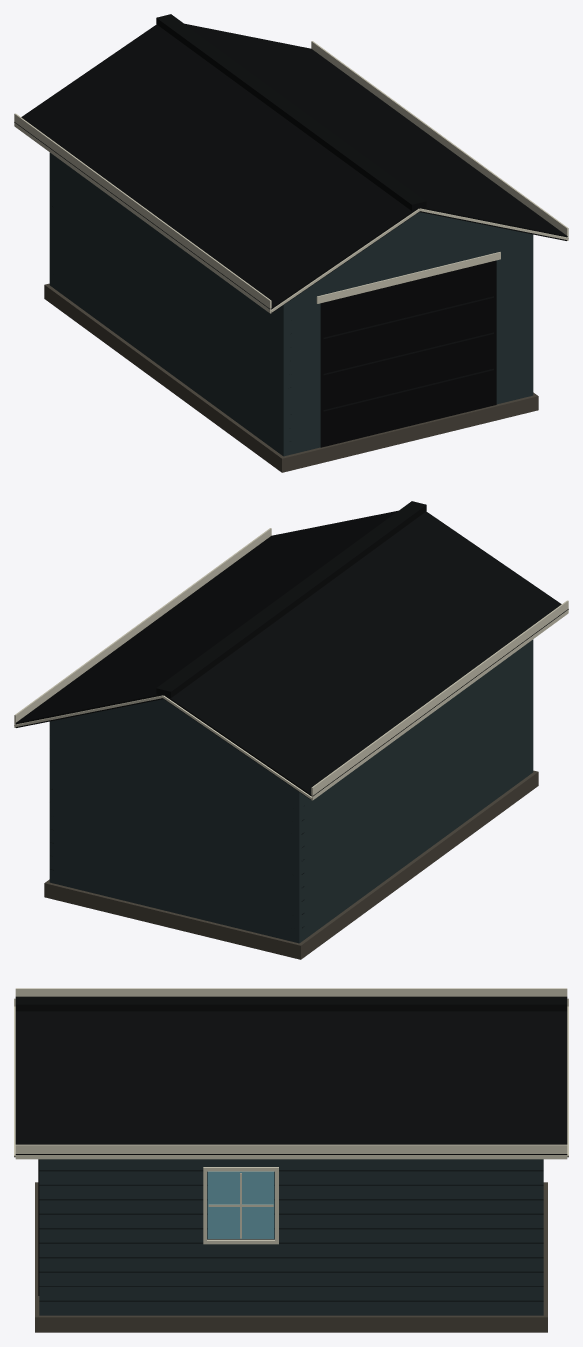
The model's file is AlleyGarage.obj.
3 renders of one model, top to bottom at view 1: azimuth 30°, elevation 25°; view 2: azimuth 150°, elevation 25°; view 3: azimuth 270°, elevation 25°, orthographic. The views are drawn at different scales.
Parts seen in each view (by area): view 1: AlleyGarage; view 2: AlleyGarage; view 3: AlleyGarage.
Part boxes in pixels (bbox=[...]): AlleyGarage: bbox=[14, 14, 568, 472]; AlleyGarage: bbox=[14, 501, 568, 959]; AlleyGarage: bbox=[14, 988, 568, 1332].
Size of the model in its own units: 4.43 by 3.47 by 6.6.
